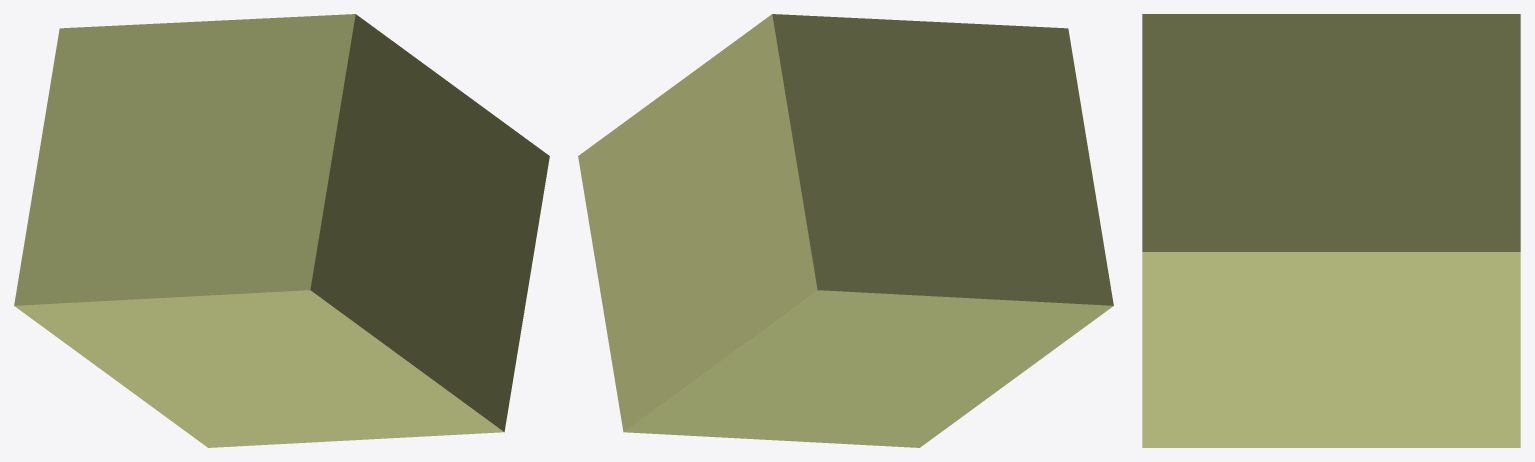
The picture shows the model from 3 angles, left to right: view 1: azimuth 30°, elevation 25°; view 2: azimuth 150°, elevation 25°; view 3: azimuth 270°, elevation 25°; orthographic projection. The views are drawn at different scales.
Visible parts, largest first — view 1: 0_1_0_0_1_0_2_2_2_1_0; view 2: 0_1_0_0_1_0_2_2_2_1_0; view 3: 0_1_0_0_1_0_2_2_2_1_0.
Part boxes in pixels (<box>): 0_1_0_0_1_0_2_2_2_1_0: <box>14,14,549,447</box>; 0_1_0_0_1_0_2_2_2_1_0: <box>578,14,1113,447</box>; 0_1_0_0_1_0_2_2_2_1_0: <box>1142,14,1520,447</box>.
Size of the model in its own units: 9.14 by 8.26 by 9.
